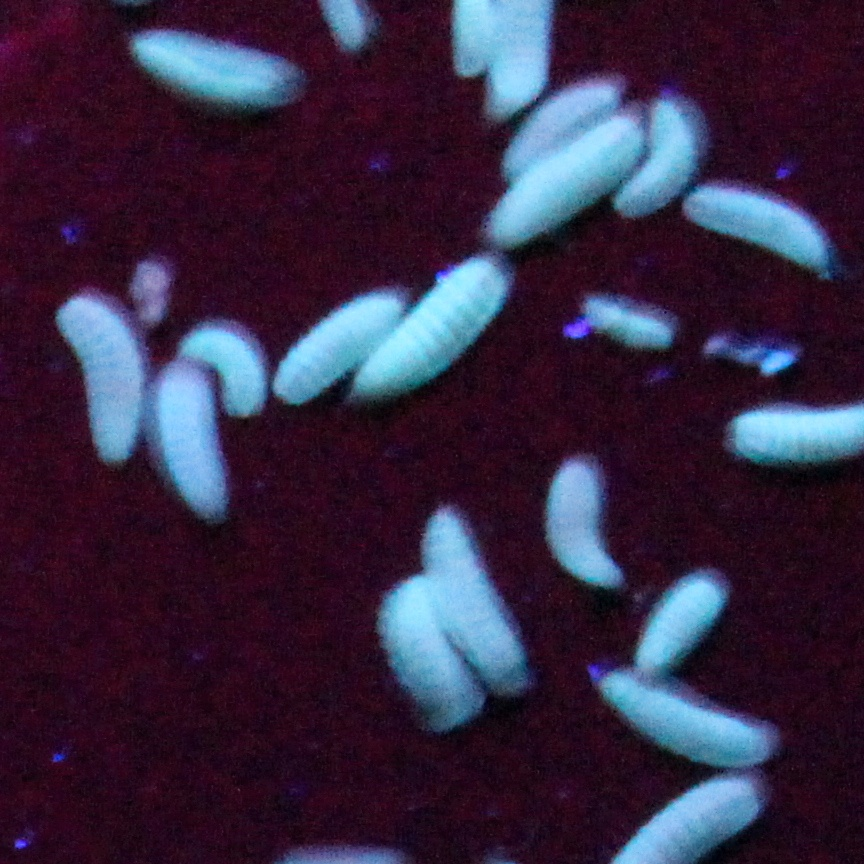larve: (356, 262, 505, 389), (492, 117, 641, 242), (423, 515, 521, 679), (601, 674, 766, 769), (274, 293, 401, 404), (59, 300, 141, 460), (381, 577, 472, 719), (688, 188, 824, 271), (505, 83, 616, 174), (136, 33, 284, 98), (158, 370, 223, 516), (547, 462, 622, 588), (618, 102, 694, 219), (637, 578, 724, 675), (182, 328, 263, 415), (585, 299, 671, 346)
